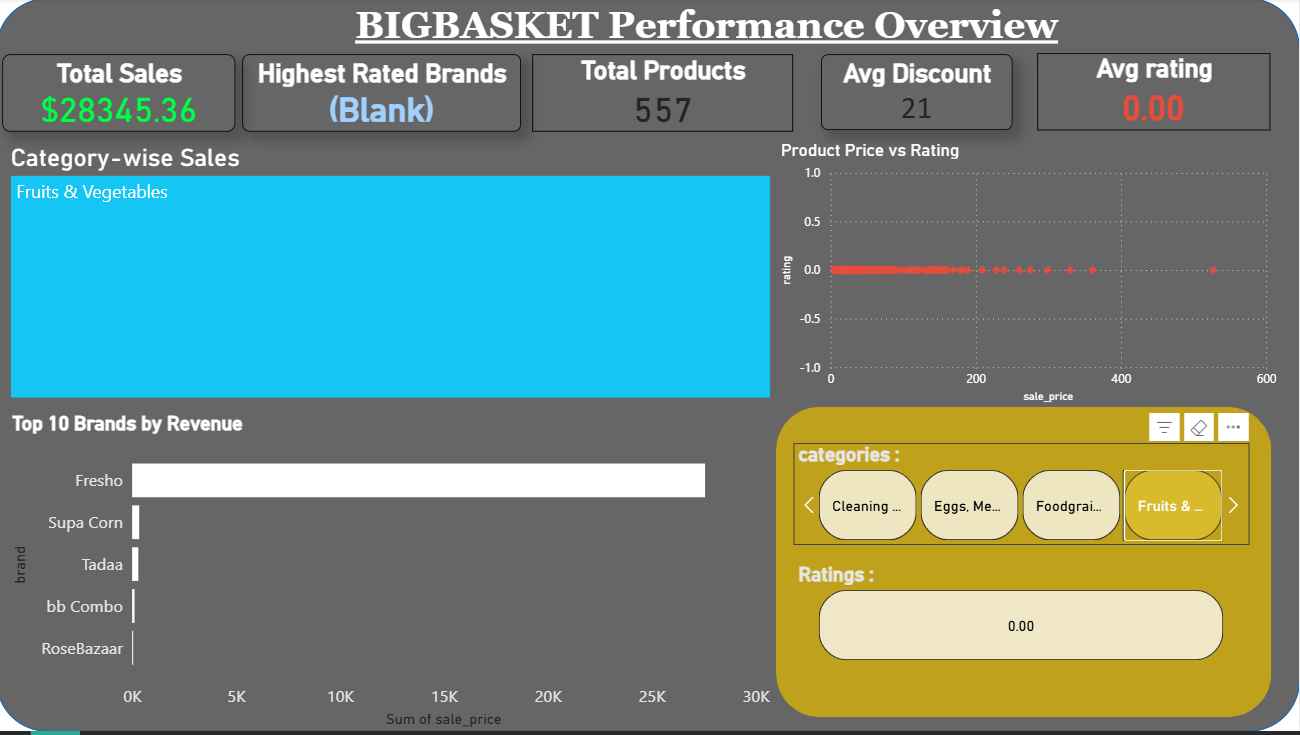

The dashboard page shown, as its layout file describes it:
{"tool":"powerbi","page":{"name":"Page 1","canvas":[1280,720],"ordinal":0},"visuals":[{"type":"shape","box":[0,0,1280,720.3],"z":0},{"type":"shape","box":[765,401.8,486.4,304.8],"z":1000},{"type":"textbox","box":[202.8,0,990.2,74.6],"z":2000},{"type":"card","title":"Total Sales","fields":{"Values":["BigBasket Products.Measure"]},"box":[6.2,54.7,228.9,75.9],"z":3000},{"type":"card","title":"Avg rating","fields":{"Values":["BigBasket Products.reating"]},"box":[1022.5,53.5,228.9,75.9],"z":4000},{"type":"card","title":"Highest Rated Brands","fields":{"Values":["BigBasket Products.highest_rated"]},"box":[241.3,54.7,273.7,75.9],"z":5000},{"type":"card","title":"Avg Discount","fields":{"Values":["BigBasket Products.avgdis"]},"box":[809.8,54.7,187.8,74.6],"z":6000},{"type":"card","title":"Total Products","fields":{"Values":["BigBasket Products.total product1"]},"box":[526.2,54.7,256.3,75.9],"z":7000},{"type":"treemap","title":"Category-wise Sales","fields":{"Group":["BigBasket Products.category"],"Values":["Sum(BigBasket Products.sale_price)"]},"box":[10,141.8,755.1,255],"z":8000},{"type":"clusteredBarChart","title":"Top 10 Brands by Revenue","fields":{"Category":["BigBasket Products.brand"],"Y":["Sum(BigBasket Products.sale_price)"]},"box":[11.2,405.5,753.8,314.7],"z":9000},{"type":"scatterChart","title":" Product Price vs Rating","fields":{"X":["BigBasket Products.sale_price"],"Y":["BigBasket Products.rating"]},"box":[765,138.1,496.3,263.7],"z":10000},{"type":"advancedSlicerVisual","title":"categories :","fields":{"Values":["BigBasket Products (2).category"]},"box":[782.5,436.6,447.8,100.8],"z":11000},{"type":"advancedSlicerVisual","title":"Ratings :","fields":{"Values":["BigBasket Products.rating"]},"box":[782.5,554.8,447.8,100.8],"z":12001}]}

Visuals, with their boxes in screenshot pixels (x1, y1, x2, y2), scaled from the page's 1280x720 canvas onto the 1300x735 screenshot:
shape: rect(0, 0, 1299, 734)
shape: rect(777, 410, 1271, 721)
textbox: rect(206, 0, 1212, 76)
"Total Sales" card: rect(6, 56, 239, 133)
"Avg rating" card: rect(1038, 55, 1271, 132)
"Highest Rated Brands" card: rect(245, 56, 523, 133)
"Avg Discount" card: rect(822, 56, 1013, 132)
"Total Products" card: rect(534, 56, 795, 133)
"Category-wise Sales" treemap: rect(10, 145, 777, 405)
"Top 10 Brands by Revenue" clusteredBarChart: rect(11, 414, 777, 734)
" Product Price vs Rating" scatterChart: rect(777, 141, 1281, 410)
"categories :" advancedSlicerVisual: rect(795, 446, 1250, 549)
"Ratings :" advancedSlicerVisual: rect(795, 566, 1250, 669)
